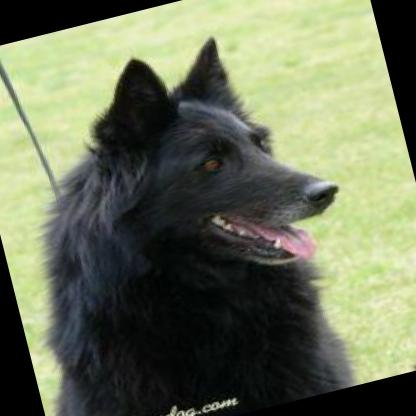groenendael: (0, 16, 385, 416)
